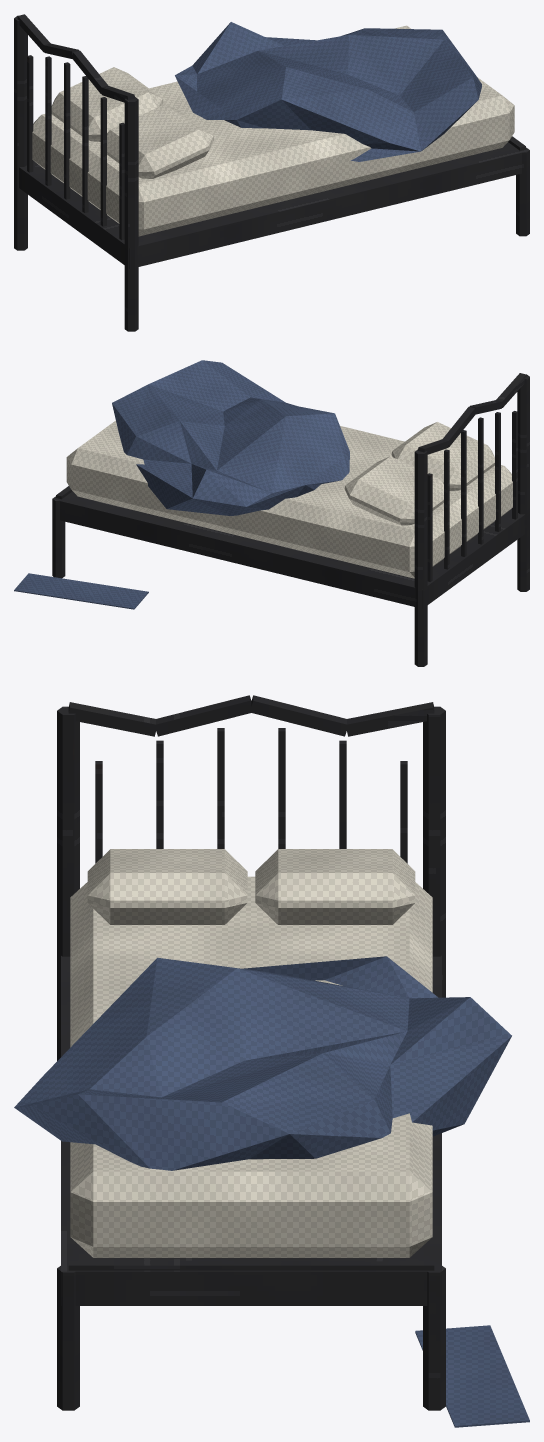
The model's file is outdoor_bed.glb.
The picture shows the model from 3 angles, top to bottom: view 1: azimuth 30°, elevation 25°; view 2: azimuth 150°, elevation 25°; view 3: azimuth 270°, elevation 25°; orthographic projection. The views are drawn at different scales.
Parts seen in each view (by area): view 1: outdoor_bed; view 2: outdoor_bed; view 3: outdoor_bed.
Boxes of the visible parts, <box> form: outdoor_bed: <box>14,14,529,331</box>; outdoor_bed: <box>14,360,529,666</box>; outdoor_bed: <box>14,695,529,1427</box>.
Size of what is drawn, in the model's own units: 2.12 by 1.14 by 1.35.
3 materials, 3 textured.
